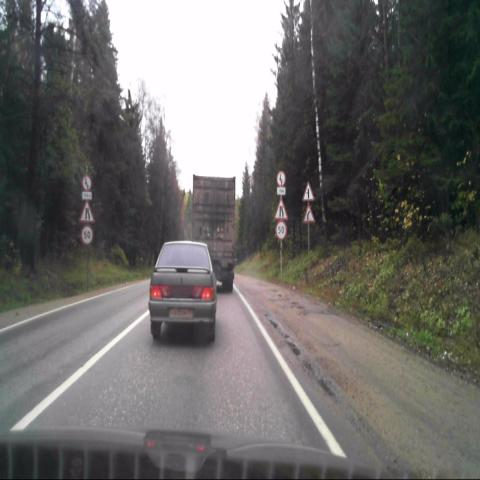2_3_3: (302, 181, 314, 201)
